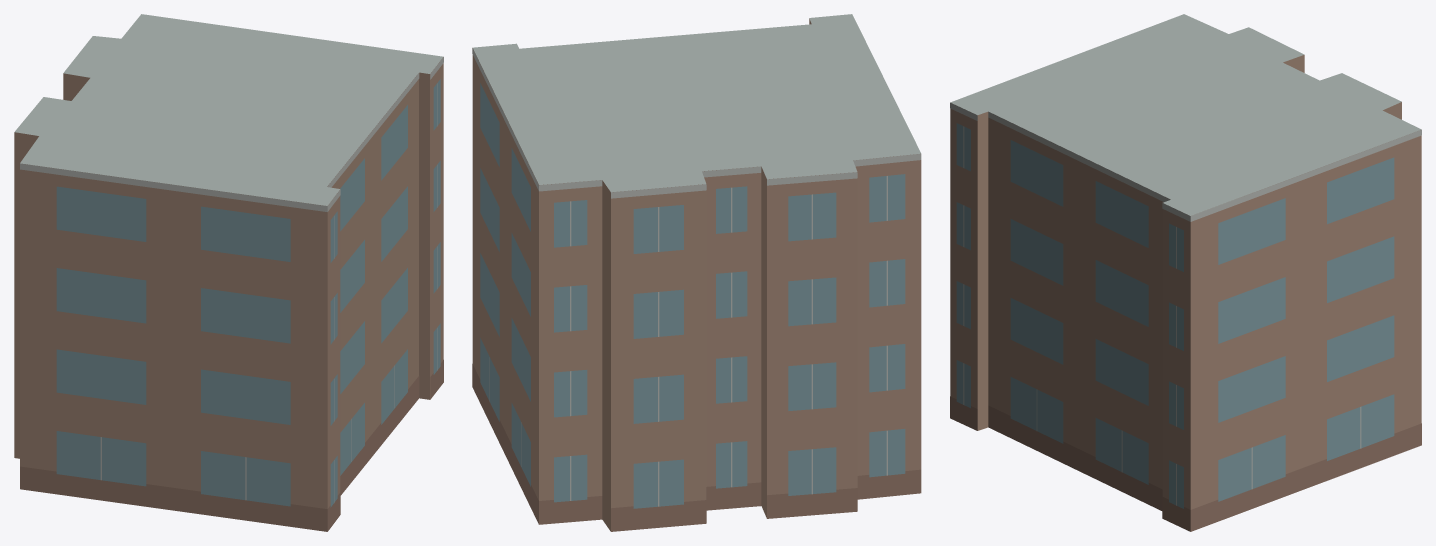
The model's file is survey-upis-32698177.glb.
3 views of the same model, side by side, from view 1: azimuth 30°, elevation 25°; view 2: azimuth 150°, elevation 25°; view 3: azimuth 270°, elevation 25° (orthographic). The views are drawn at different scales.
Visible parts, largest first — view 1: survey-upis-32698177.tmp; view 2: survey-upis-32698177.tmp; view 3: survey-upis-32698177.tmp.
Part boxes in pixels (<box>): survey-upis-32698177.tmp: <box>14,14,443,531</box>; survey-upis-32698177.tmp: <box>472,14,921,531</box>; survey-upis-32698177.tmp: <box>950,14,1421,531</box>.
Size of the model in its own units: 17.84 by 13 by 17.6.
